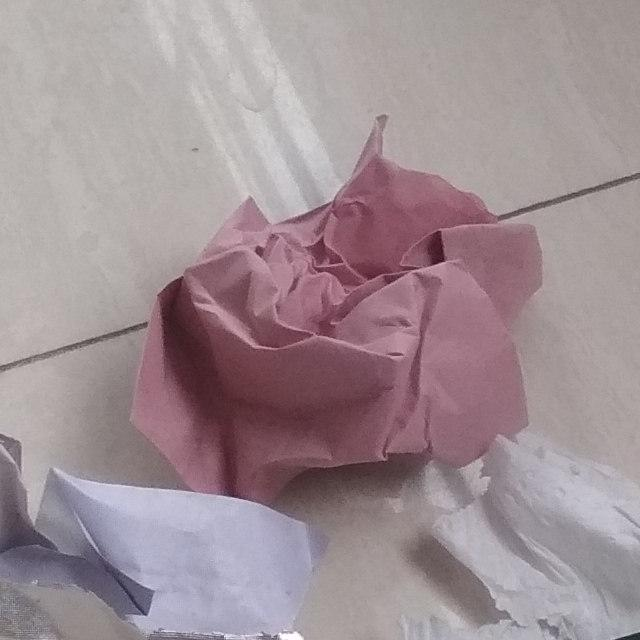paper: (55, 103, 591, 509), (0, 403, 323, 640)
